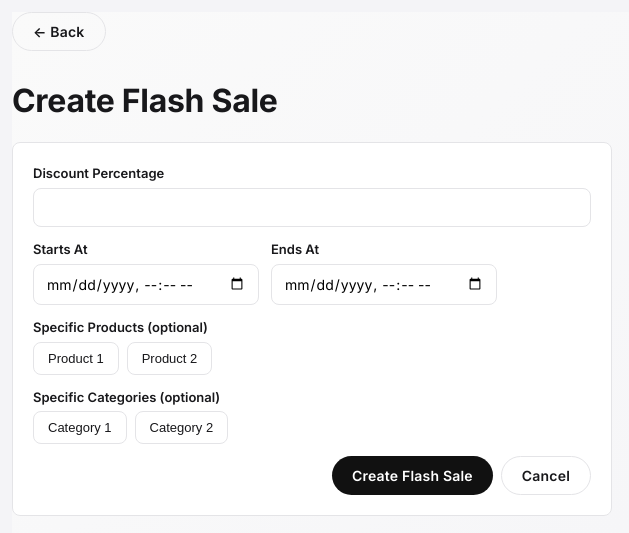
Test: AdminFlashSaleForm › Create Mode › should disable button while creating
In the number field: (312, 208) [33,188,591,227], type "20"
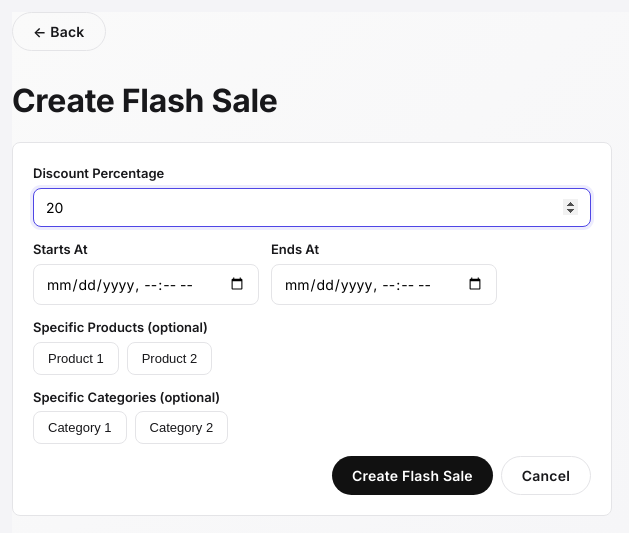
In the field below "Starts At": (146, 284) [33,264,259,305], type "2025-01-01T00:00"
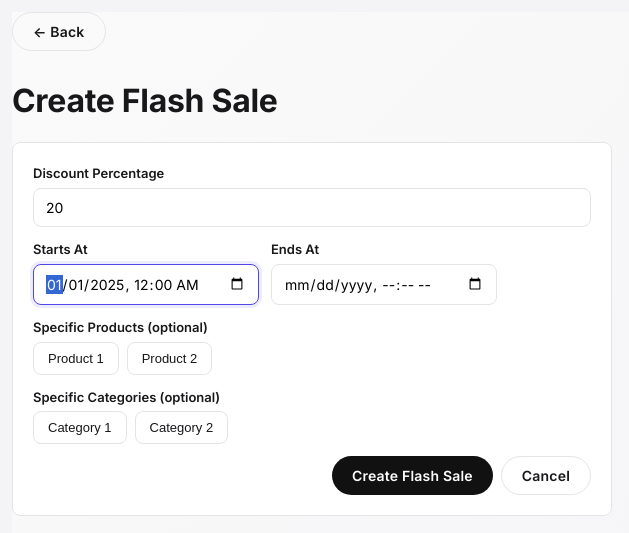
In the field below "Ends At": (384, 284) [271,264,497,305], type "2025-01-02T00:00"
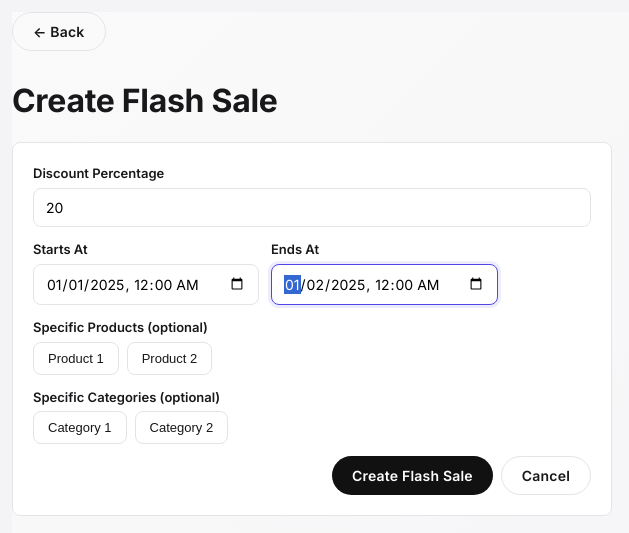
Click the button "Create Flash Sale": (412, 476) [332,456,493,495]
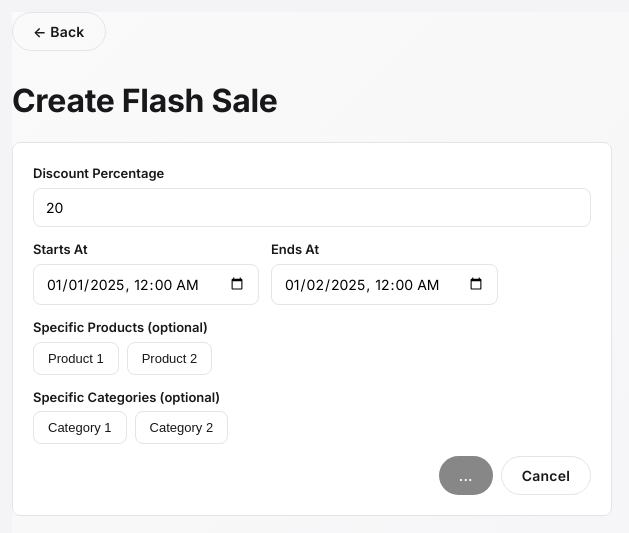
Check: the button named "create" is disabled, box [439,456,493,495]
